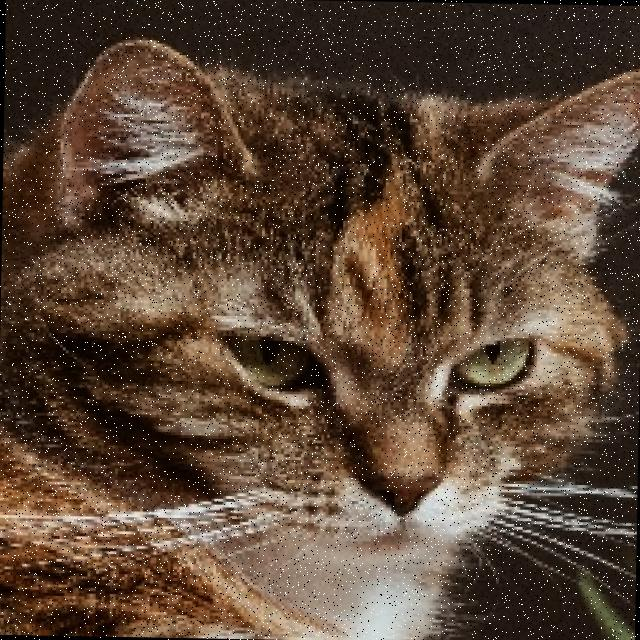Angry: (159, 236, 566, 571)
